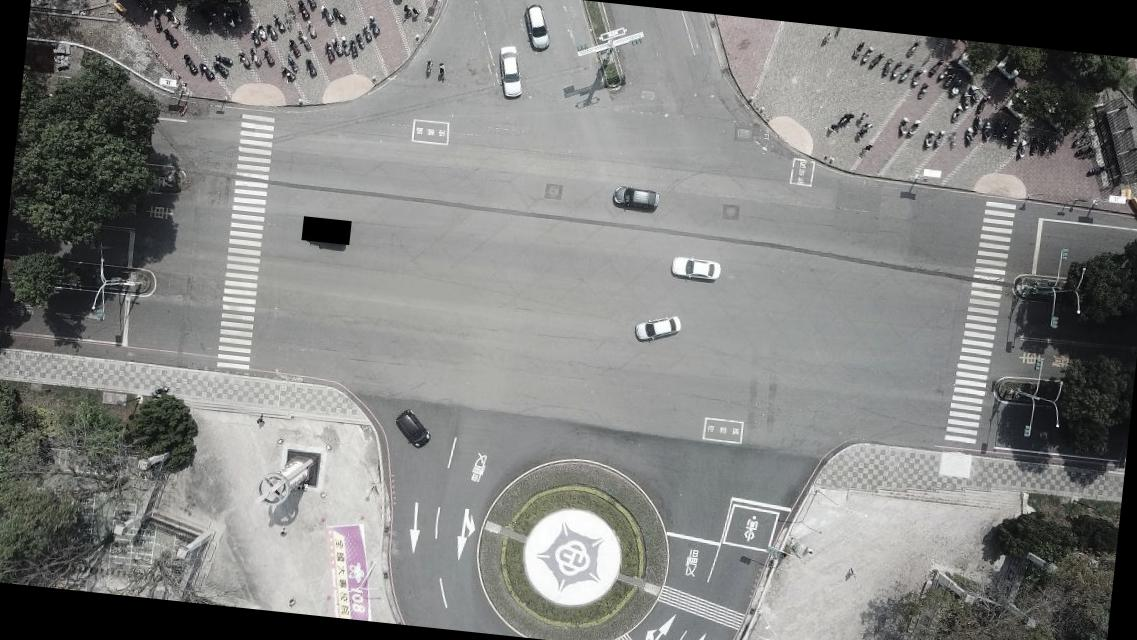vehicle: (494, 42, 528, 105), (518, 1, 556, 54), (632, 311, 683, 347), (392, 408, 434, 450), (612, 184, 662, 214), (669, 255, 723, 282)
